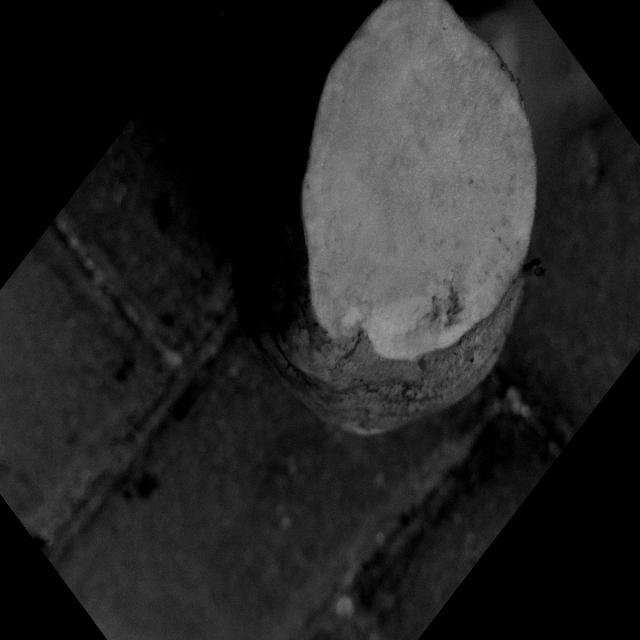Healthy Sweet Potato: (302, 2, 536, 360)
